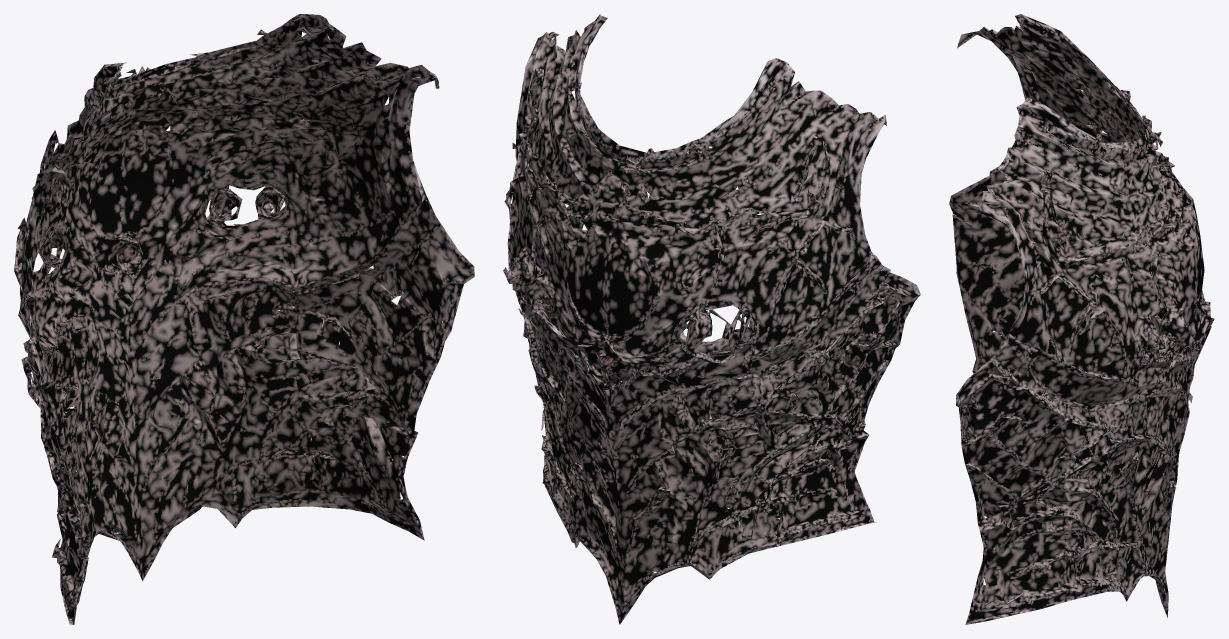
Rendered from vampire_chestplate_LOD1.glb.
3 renders of one model, left to right at view 1: azimuth 30°, elevation 25°; view 2: azimuth 150°, elevation 25°; view 3: azimuth 270°, elevation 25°, orthographic. The views are drawn at different scales.
Visible parts, largest first — view 1: vampire_chestplate_LOD1; view 2: vampire_chestplate_LOD1; view 3: vampire_chestplate_LOD1.
Boxes of the visible parts, left/top/right/bottom form: vampire_chestplate_LOD1: left=14, top=14, right=474, bottom=624; vampire_chestplate_LOD1: left=503, top=14, right=920, bottom=624; vampire_chestplate_LOD1: left=949, top=14, right=1214, bottom=624.
Size of the model in its own units: 0.5914 by 0.7757 by 0.3329.
1 material, 1 textured.
